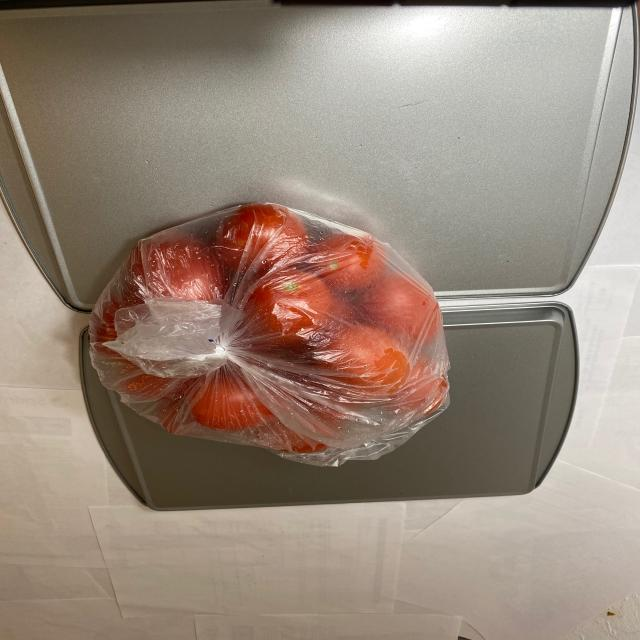tomato: (88, 203, 459, 453)
